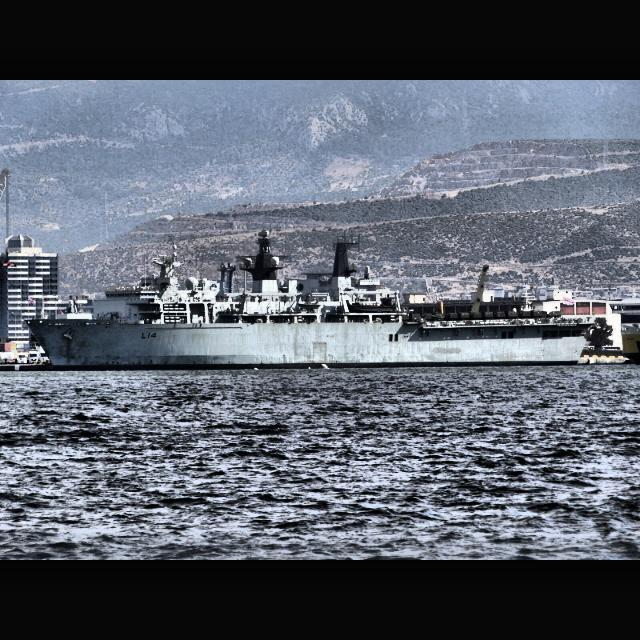combat_vessel: (24, 228, 594, 372)
